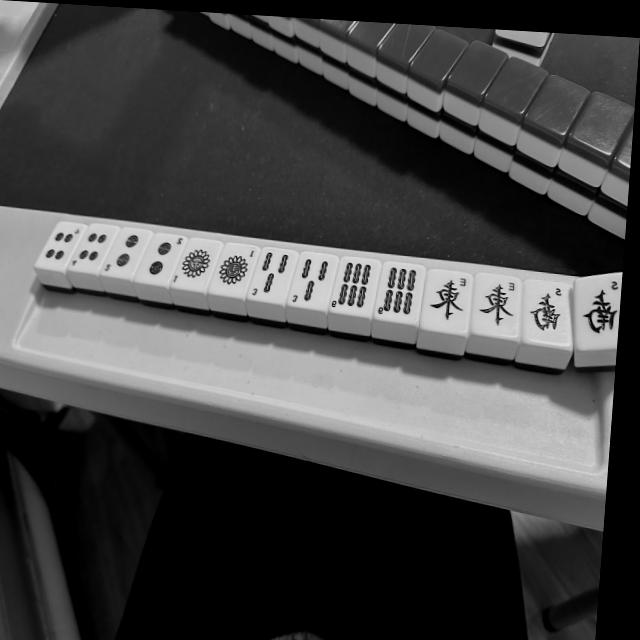1D: (214, 244, 256, 292), (173, 239, 215, 287)
2D: (103, 229, 145, 276), (142, 233, 183, 281)
3B: (289, 254, 332, 307), (249, 248, 290, 301)
4D: (42, 222, 81, 268), (71, 228, 108, 272)
6B: (375, 265, 422, 323), (329, 258, 374, 313)
EW: (421, 272, 471, 333), (471, 276, 521, 337)
SW: (573, 274, 622, 347), (522, 281, 572, 346)
